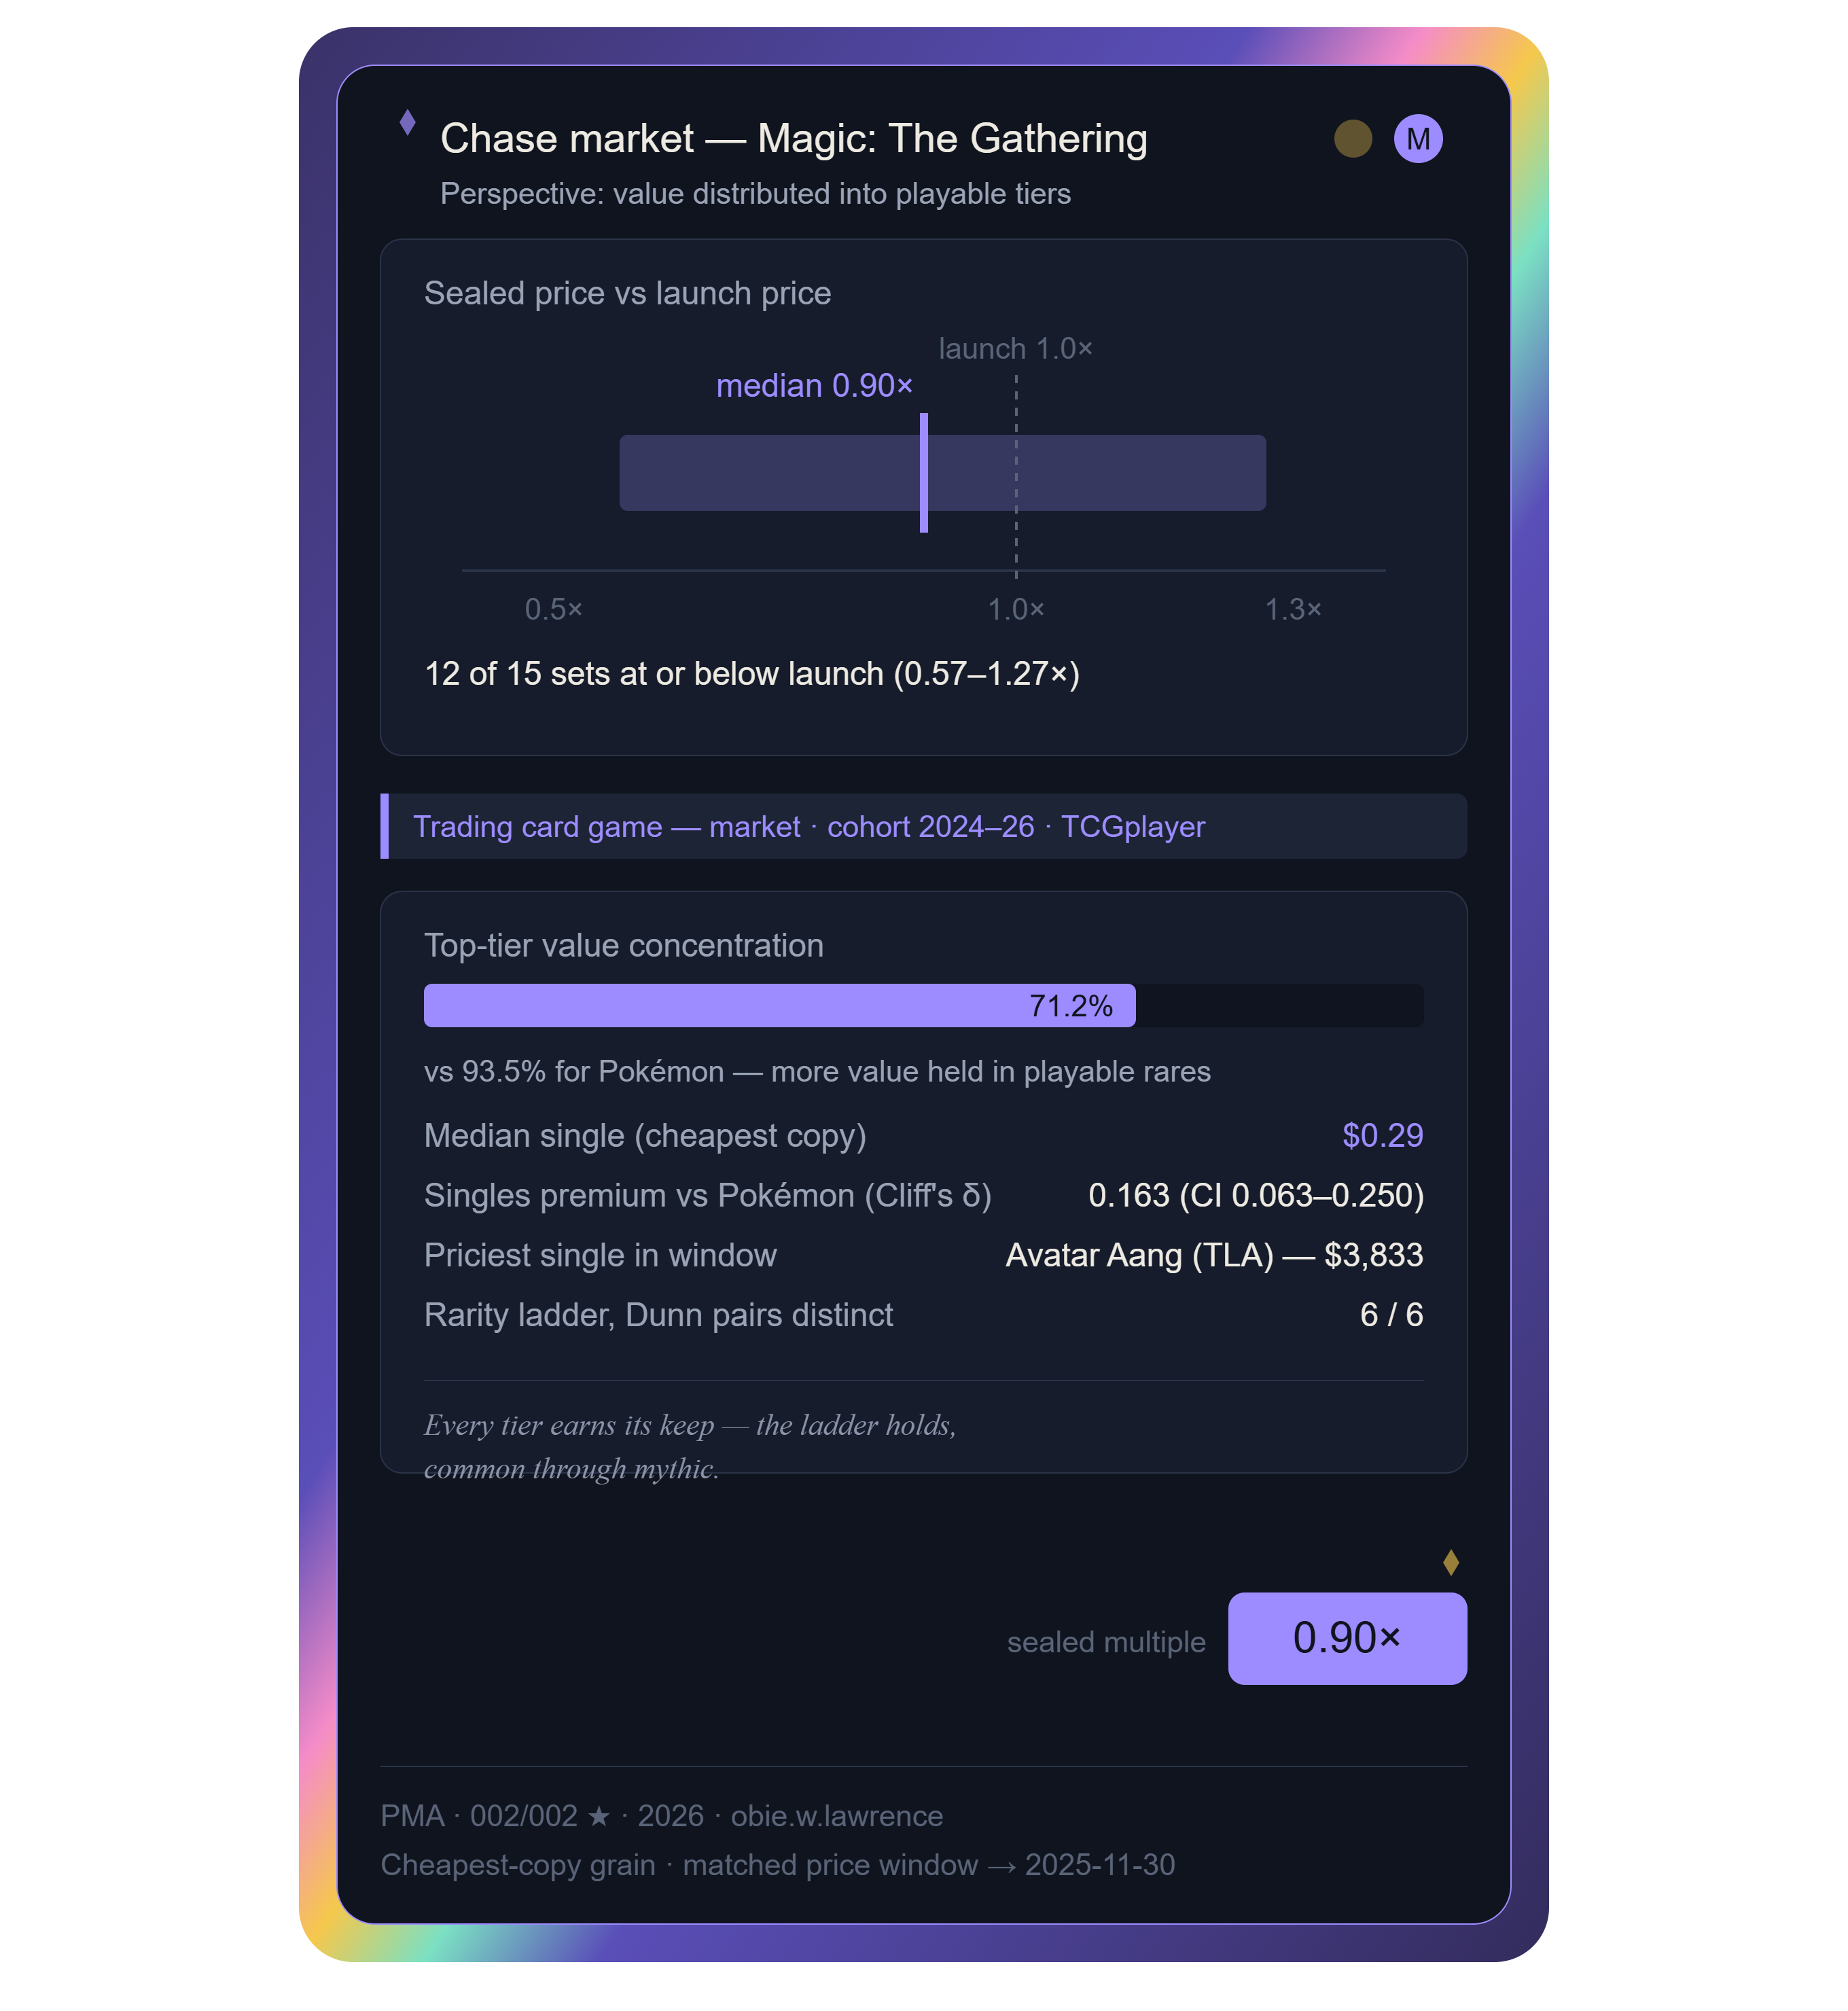

The dashboard page shown, as its layout file describes it:
{"tool":"tableau","page":{"name":"Chase Card","canvas":[1300,1820],"ordinal":0},"visuals":[{"type":"image","param":".../assets/frame_pokemon_1300x1820.png","box":[0,0,1300,1820]},{"type":"image","param":".../assets/frame_mtg_1300x1820.png","box":[0,0,1300,1820]},{"type":"worksheet","title":"Btn | Flip","mark":"Text","box":[1000,50,264,28]},{"type":"image","param":".../assets/orb_mtg_violet.png","box":[1088,126,64,64]},{"type":"image","param":".../Image/orb_pokemon_gold.png","box":[1088,126,64,64]},{"type":"text","box":[120,130,620,56]},{"type":"text","box":[120,130,620,56]},{"type":"text","box":[900,136,176,44]},{"type":"text","box":[120,194,760,38]},{"type":"text","box":[120,194,760,38]},{"type":"blank","box":[120,250,1060,640]},{"type":"worksheet","title":"Hero | Sealed Returns","mark":"GanttBar","rows":["total_return","Calculation_1927743420399616"],"cols":["set_code"],"box":[140,270,1020,600]},{"type":"image","param":".../assets/divider_mtg_1060x30.png","box":[120,900,1060,30]},{"type":"image","param":".../assets/divider_pokemon_1060x30.png","box":[120,900,1060,30]},{"type":"blank","box":[140,945,510,600]},{"type":"blank","box":[650,945,530,600]},{"type":"text","box":[140,963,480,59]},{"type":"text","box":[670,963,440,27]},{"type":"text","box":[670,988,490,34]},{"type":"text","box":[670,988,490,34]},{"type":"worksheet","title":"Act1 | Concentration","mark":"Bar","rows":["game"],"cols":["Calculation_2013505628016641"],"box":[140,1040,470,185]},{"type":"worksheet","title":"Act2 | Rarity Ladder","mark":"Bar","rows":["rarity_raw"],"cols":["price_usd"],"box":[670,1040,490,229]},{"type":"text","box":[140,1200,470,70]},{"type":"text","box":[670,1210,460,170]},{"type":"text","box":[140,1235,470,70]},{"type":"text","box":[670,1300,490,150]},{"type":"text","box":[140,1310,308,125]},{"type":"text","box":[452,1310,158,125]},{"type":"blank","box":[962,1565,190,54]},{"type":"blank","box":[1032,1565,120,54]},{"type":"text","box":[150,1570,488,50]},{"type":"text","box":[150,1570,518,50]},{"type":"text","box":[970,1573,174,38]},{"type":"text","box":[1040,1573,104,38]},{"type":"text","box":[690,1575,260,36]},{"type":"text","box":[760,1575,260,36]},{"type":"text","box":[120,1635,1060,40]}]}

Visuals, with their boxes on the page's 1300x1820 design canvas (x1, y1, x2, y2). These are canvas units, not pixel positions in the 1848x2011 screenshot, which may show the page scaled, cropped or inside an application window:
image: {"left": 0, "top": 0, "right": 1300, "bottom": 1820}
image: {"left": 0, "top": 0, "right": 1300, "bottom": 1820}
"Btn | Flip" worksheet (Text marks): {"left": 1000, "top": 50, "right": 1264, "bottom": 78}
image: {"left": 1088, "top": 126, "right": 1152, "bottom": 190}
image: {"left": 1088, "top": 126, "right": 1152, "bottom": 190}
text: {"left": 120, "top": 130, "right": 740, "bottom": 186}
text: {"left": 120, "top": 130, "right": 740, "bottom": 186}
text: {"left": 900, "top": 136, "right": 1076, "bottom": 180}
text: {"left": 120, "top": 194, "right": 880, "bottom": 232}
text: {"left": 120, "top": 194, "right": 880, "bottom": 232}
blank: {"left": 120, "top": 250, "right": 1180, "bottom": 890}
"Hero | Sealed Returns" worksheet (GanttBar marks): {"left": 140, "top": 270, "right": 1160, "bottom": 870}
image: {"left": 120, "top": 900, "right": 1180, "bottom": 930}
image: {"left": 120, "top": 900, "right": 1180, "bottom": 930}
blank: {"left": 140, "top": 945, "right": 650, "bottom": 1545}
blank: {"left": 650, "top": 945, "right": 1180, "bottom": 1545}
text: {"left": 140, "top": 963, "right": 620, "bottom": 1022}
text: {"left": 670, "top": 963, "right": 1110, "bottom": 990}
text: {"left": 670, "top": 988, "right": 1160, "bottom": 1022}
text: {"left": 670, "top": 988, "right": 1160, "bottom": 1022}
"Act1 | Concentration" worksheet (Bar marks): {"left": 140, "top": 1040, "right": 610, "bottom": 1225}
"Act2 | Rarity Ladder" worksheet (Bar marks): {"left": 670, "top": 1040, "right": 1160, "bottom": 1269}
text: {"left": 140, "top": 1200, "right": 610, "bottom": 1270}
text: {"left": 670, "top": 1210, "right": 1130, "bottom": 1380}
text: {"left": 140, "top": 1235, "right": 610, "bottom": 1305}
text: {"left": 670, "top": 1300, "right": 1160, "bottom": 1450}
text: {"left": 140, "top": 1310, "right": 448, "bottom": 1435}
text: {"left": 452, "top": 1310, "right": 610, "bottom": 1435}
blank: {"left": 962, "top": 1565, "right": 1152, "bottom": 1619}
blank: {"left": 1032, "top": 1565, "right": 1152, "bottom": 1619}
text: {"left": 150, "top": 1570, "right": 638, "bottom": 1620}
text: {"left": 150, "top": 1570, "right": 668, "bottom": 1620}
text: {"left": 970, "top": 1573, "right": 1144, "bottom": 1611}
text: {"left": 1040, "top": 1573, "right": 1144, "bottom": 1611}
text: {"left": 690, "top": 1575, "right": 950, "bottom": 1611}
text: {"left": 760, "top": 1575, "right": 1020, "bottom": 1611}
text: {"left": 120, "top": 1635, "right": 1180, "bottom": 1675}
